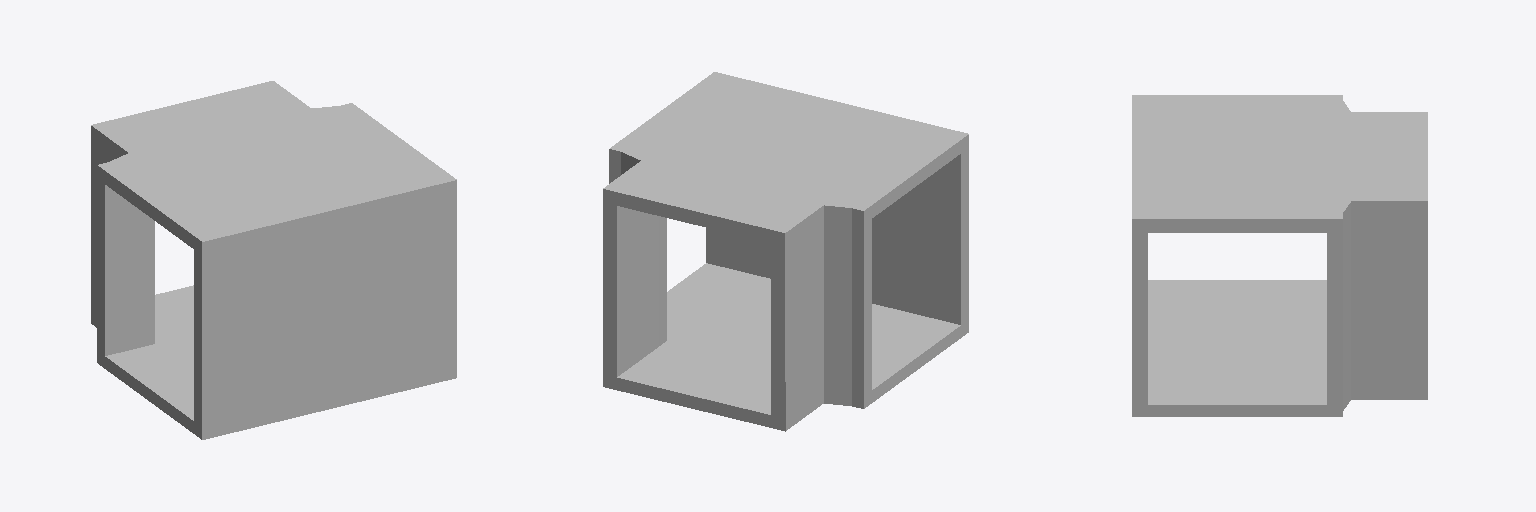
Rendered from Split - Hallway.obj.
3 views of the same model, side by side, from view 1: azimuth 30°, elevation 25°; view 2: azimuth 150°, elevation 25°; view 3: azimuth 270°, elevation 25° (orthographic).
Visible parts, largest first — view 1: Cube.006_Cube.009; view 2: Cube.006_Cube.009; view 3: Cube.006_Cube.009.
Part boxes in pixels (x1,y1,x2,y2): Cube.006_Cube.009: (91, 81, 456, 439); Cube.006_Cube.009: (603, 72, 968, 431); Cube.006_Cube.009: (1132, 95, 1427, 416).
Size of the model in its own units: 2.09 by 1.55 by 2.1.